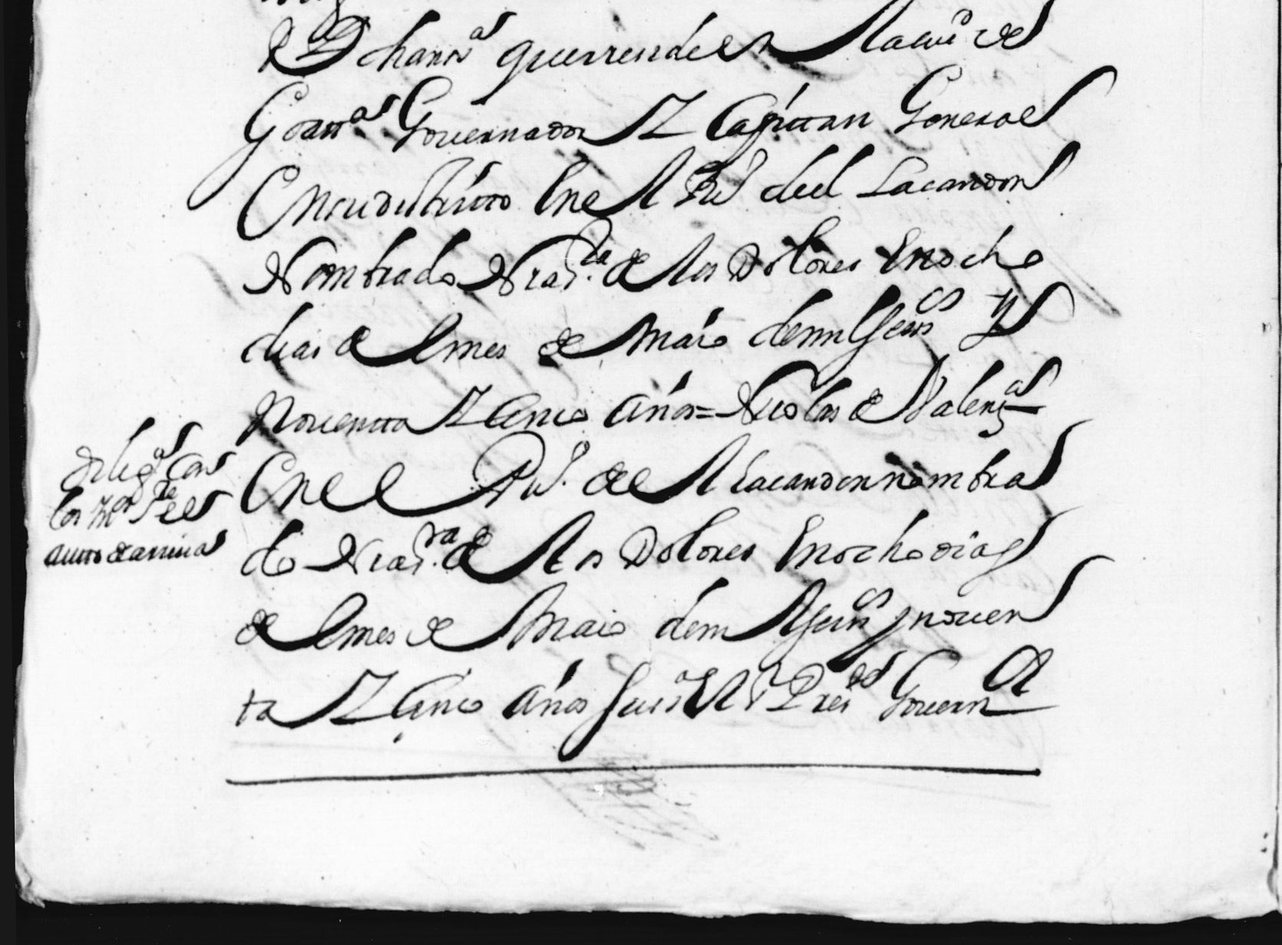lacandon: (856, 140, 1080, 197)
